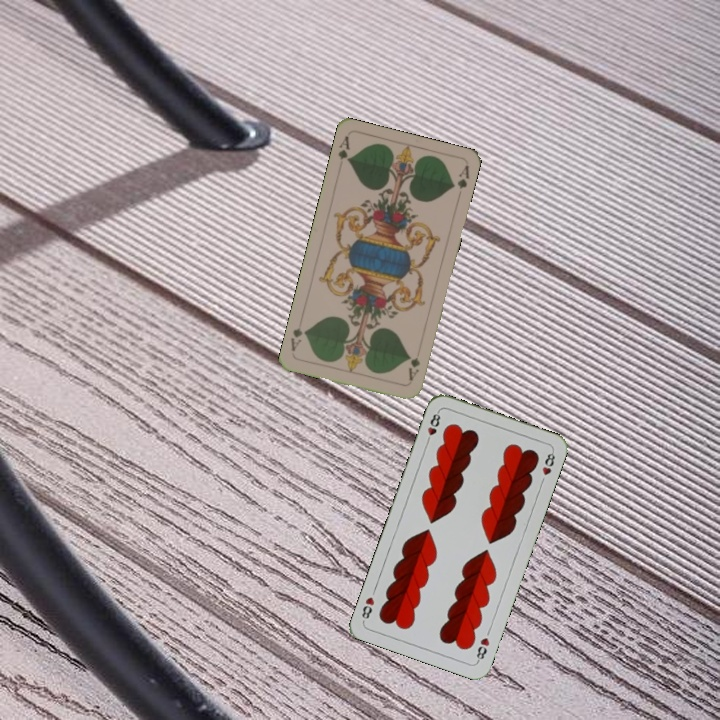GA: (404, 346, 423, 383), (334, 132, 353, 165)
H8: (422, 407, 443, 447), (472, 633, 492, 665)
